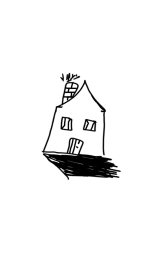door: (63, 136, 86, 156)
open_window: (59, 113, 74, 132), (81, 117, 98, 132)
shadow: (40, 148, 124, 182)
single_line_roof: (47, 71, 112, 115)
small_house: (1, 3, 161, 260)
smoking_chimney: (58, 69, 83, 108)
wall: (41, 109, 108, 160)
